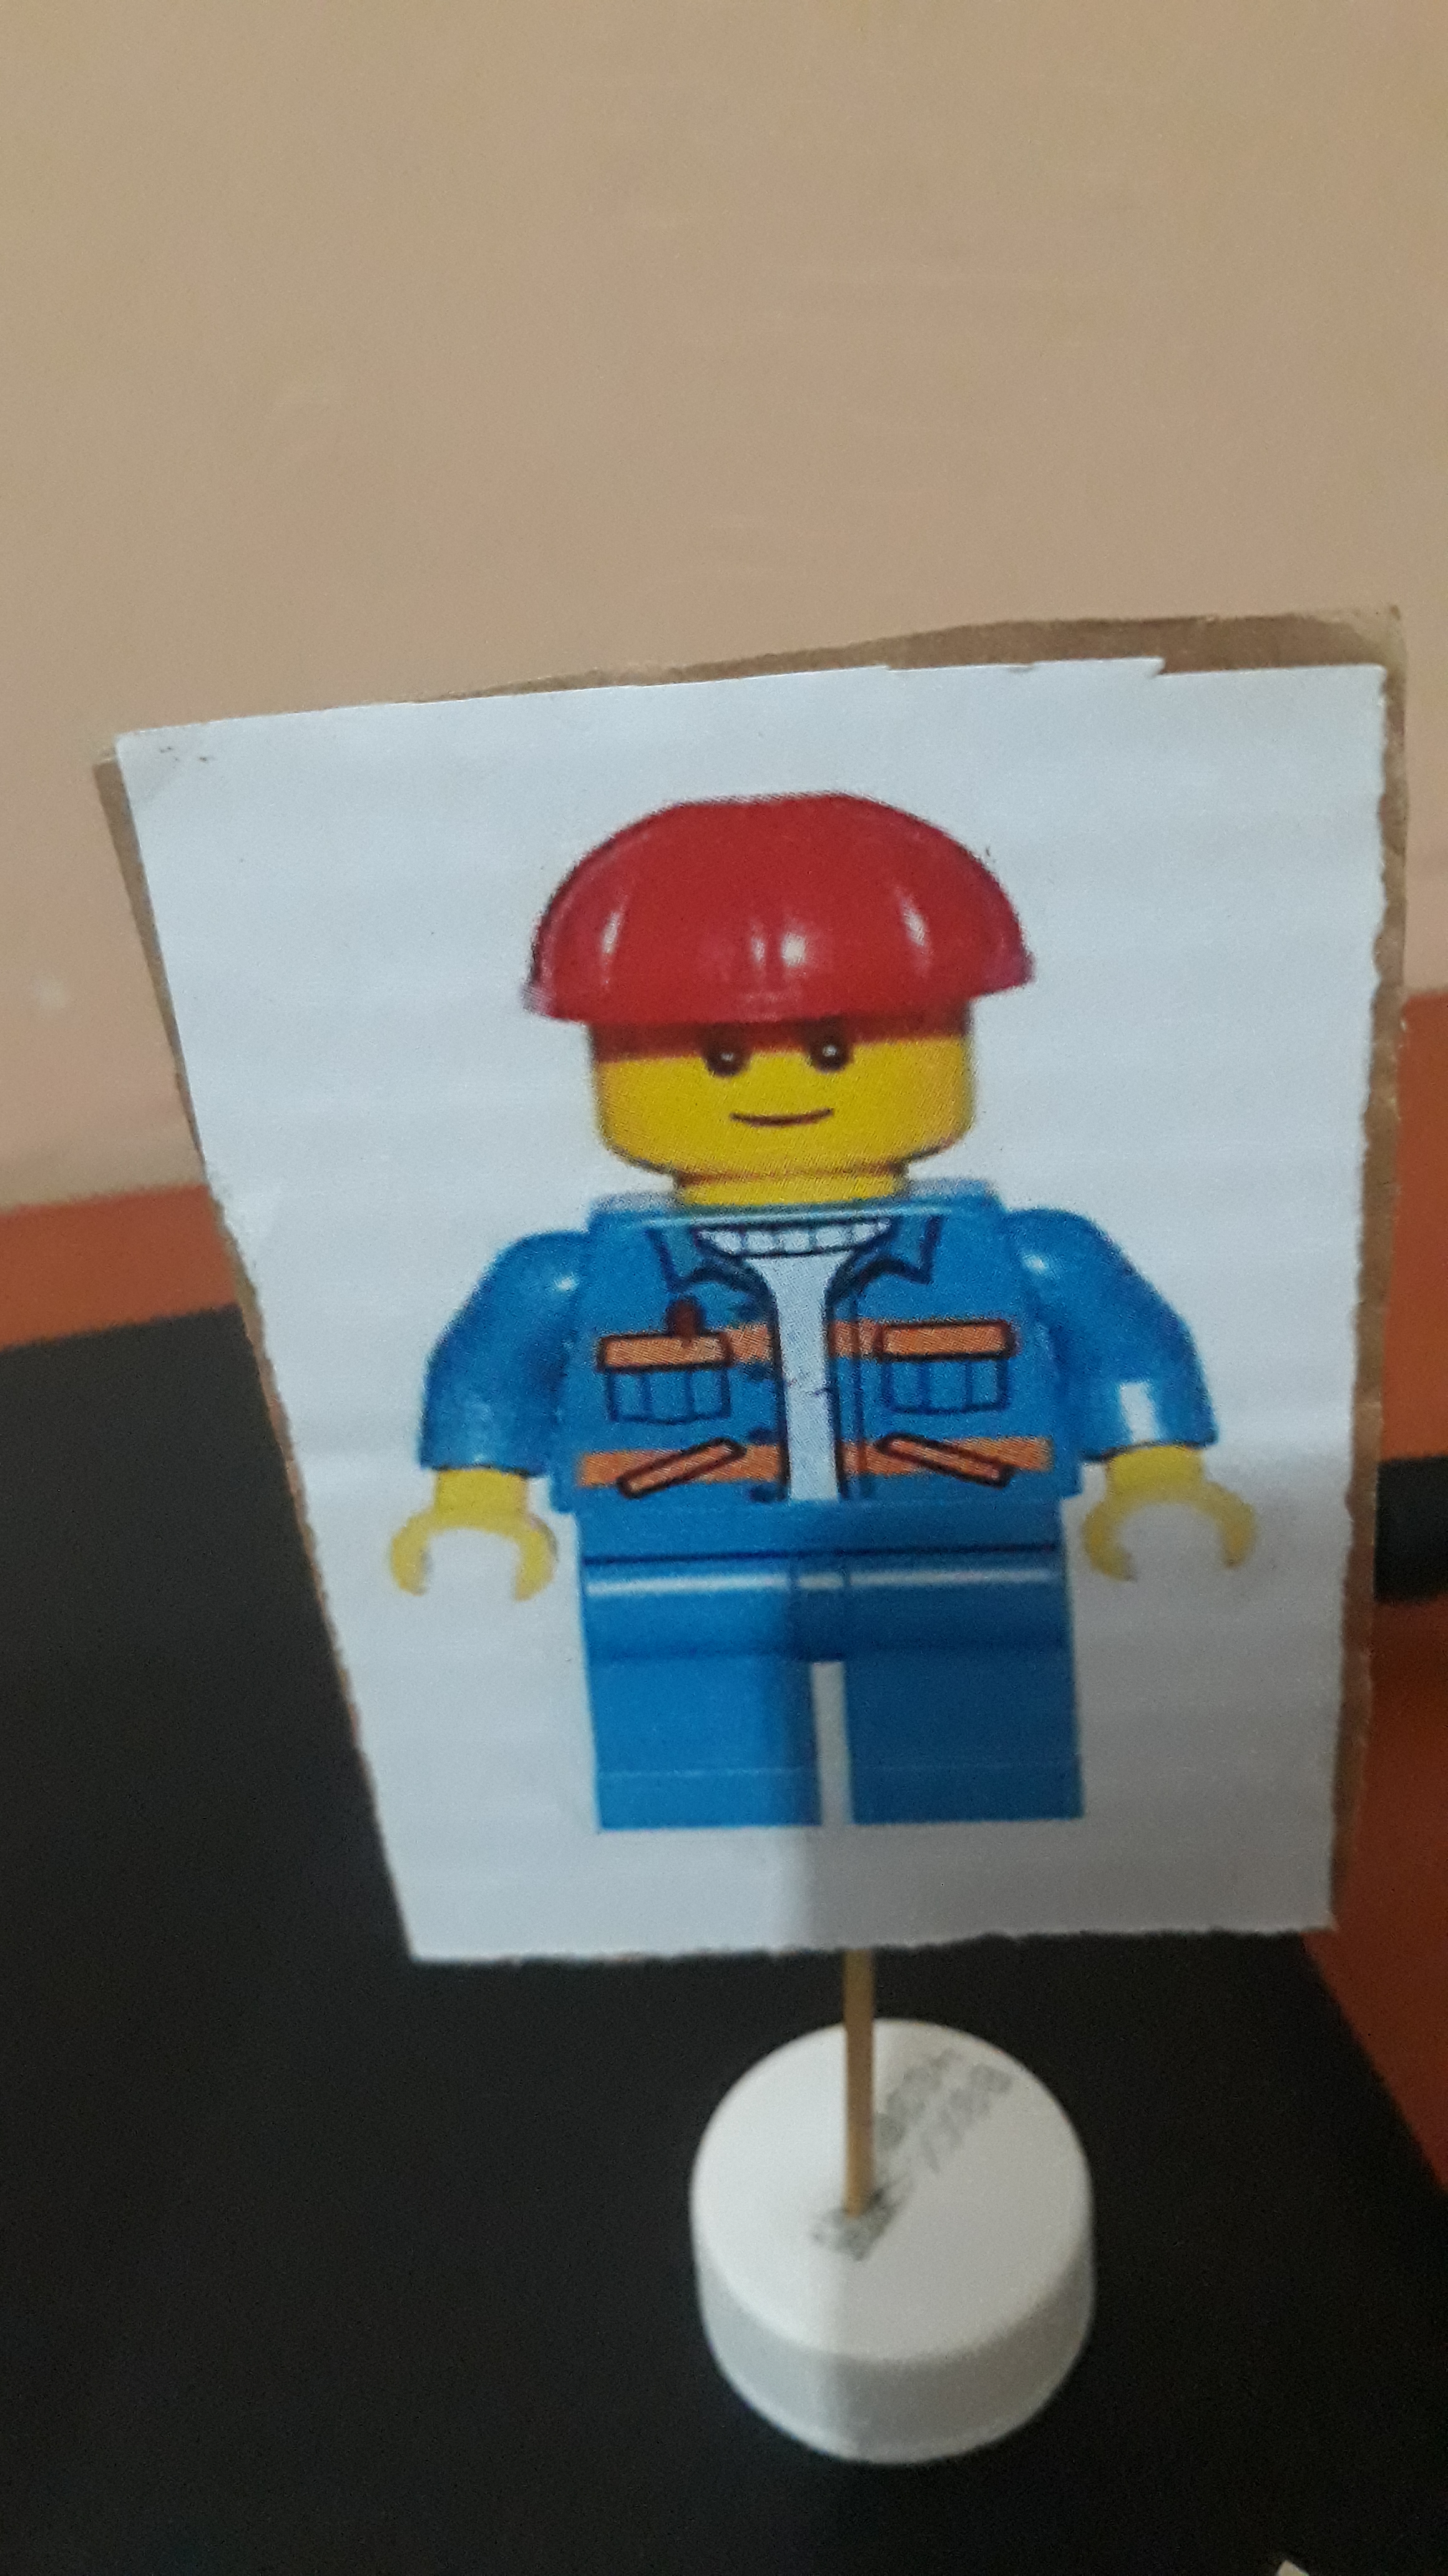pedestrian: (393, 730, 1289, 1896)
